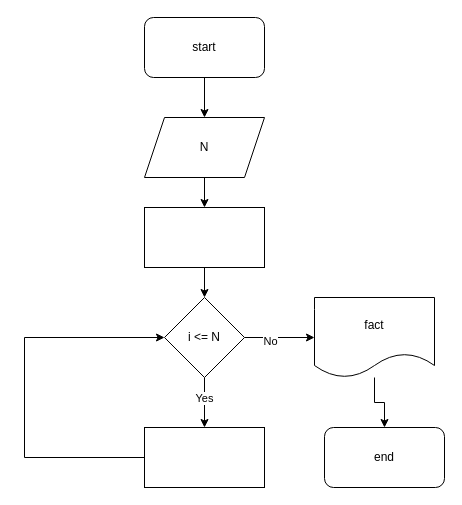
The diagram is 462 pixels wide and 505 high, and some of its shapes have lost their labels. The centre of each missing label's shape, as x and y in pixels:
"fact = 1 i = 1" belongs at point (204, 237).
"fact = fact * i i += 1" belongs at point (204, 457).
